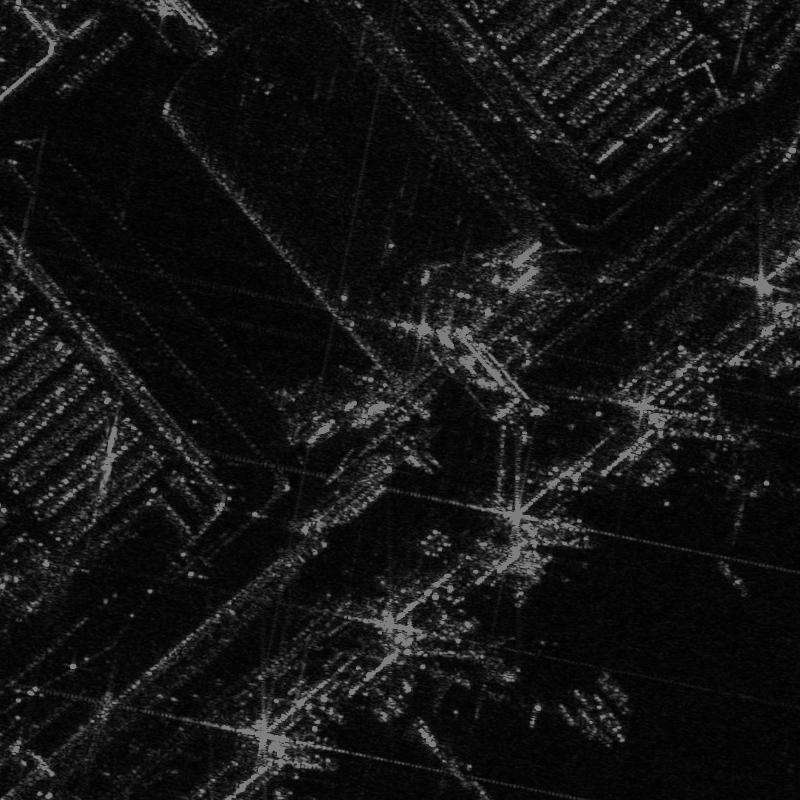A330: (431, 626, 551, 726)
